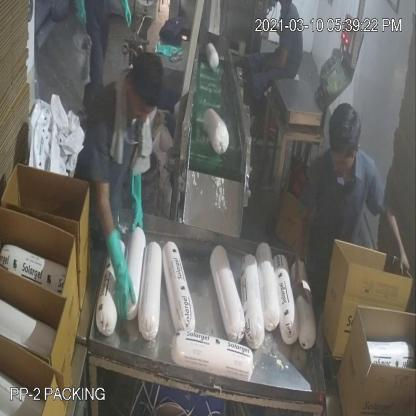no_glove: (102, 217, 139, 326), (376, 194, 412, 280), (292, 196, 316, 320)
